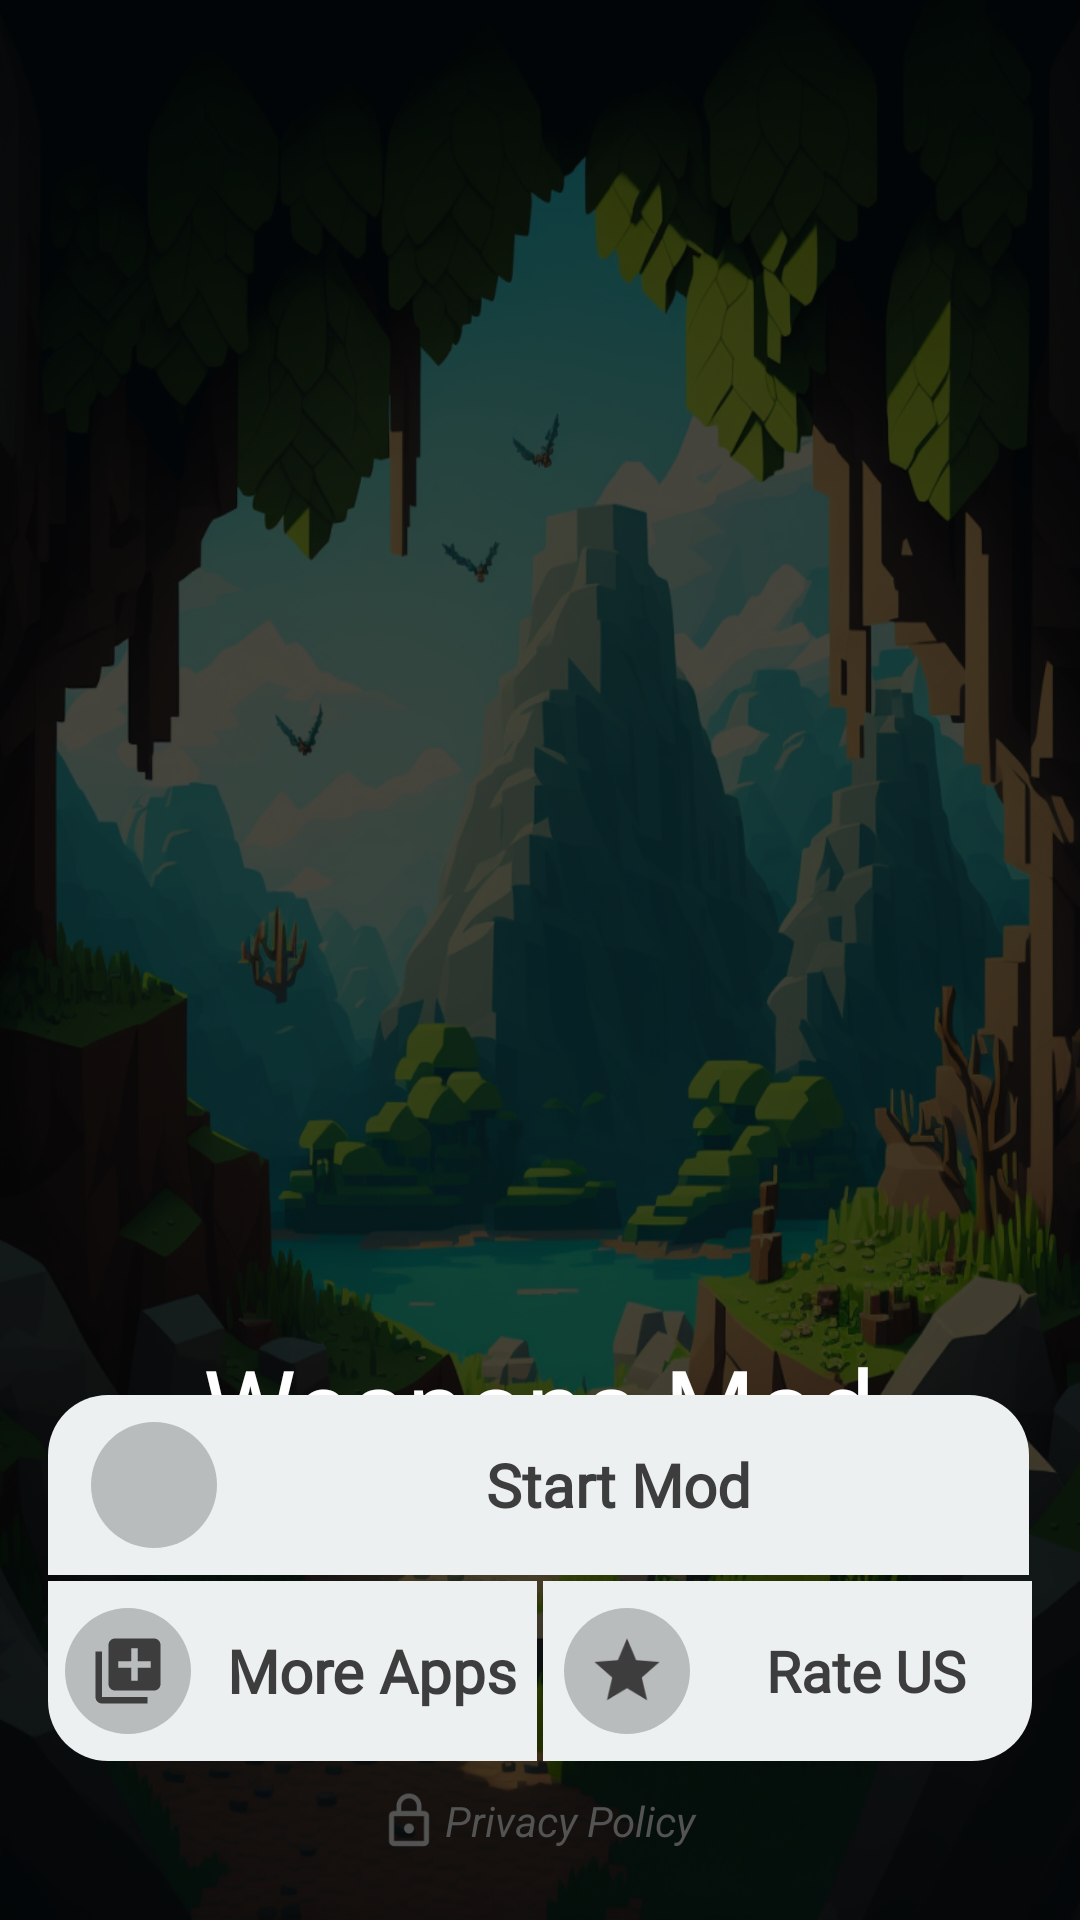

Screen size 1080px x 1920px. Icon name, then its center in pixels as [x,y]:
rate star: [627,1671]
